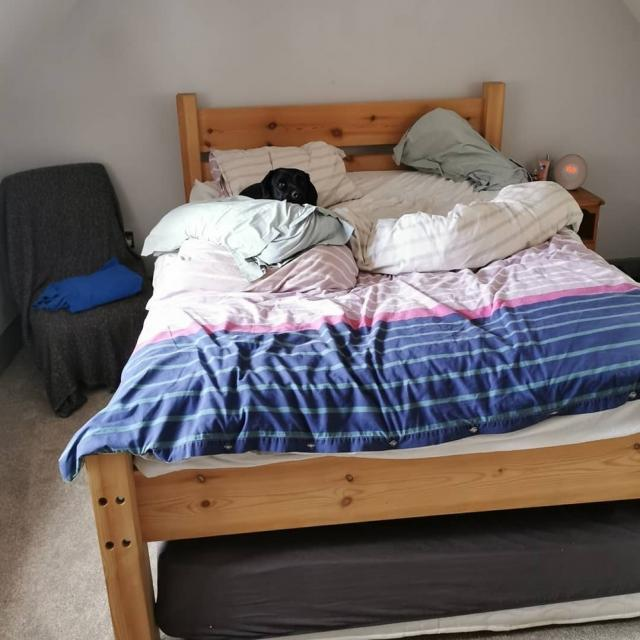bed: (136, 104, 604, 547)
